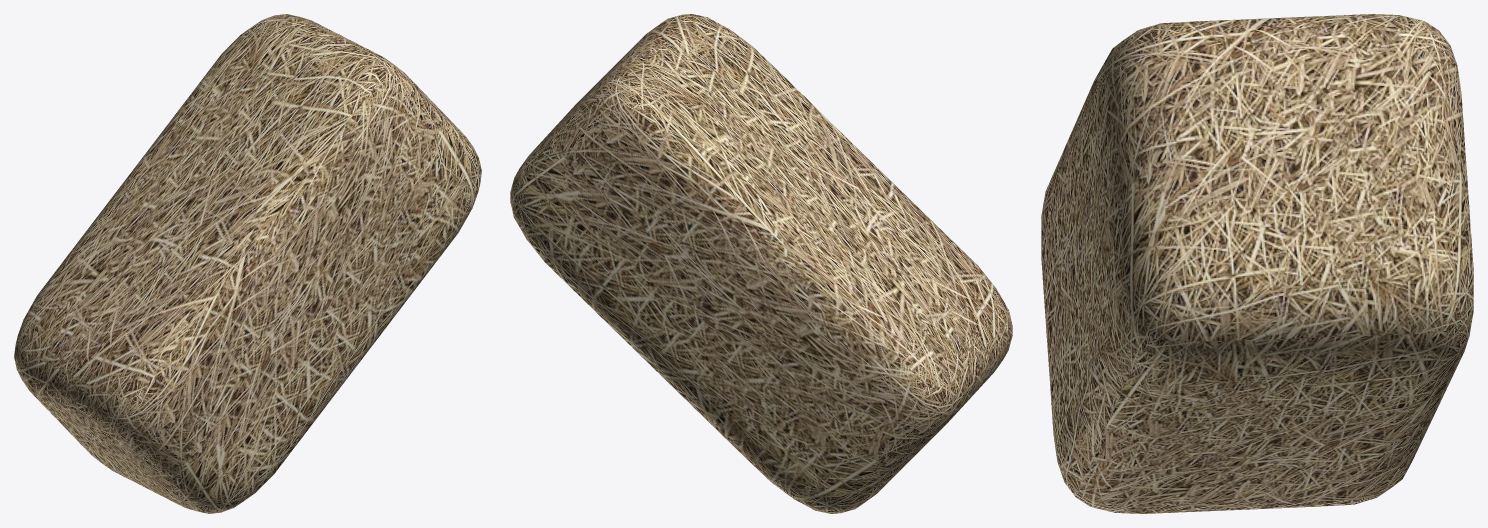
Rendered from haybale.glb.
3 renders of one model, left to right at view 1: azimuth 30°, elevation 25°; view 2: azimuth 150°, elevation 25°; view 3: azimuth 270°, elevation 25°, orthographic. The views are drawn at different scales.
Visible parts, largest first — view 1: prefab; view 2: prefab; view 3: prefab.
Boxes of the visible parts, x1=… form: prefab: x1=14, y1=14, x2=481, y2=513; prefab: x1=510, y1=14, x2=1012, y2=513; prefab: x1=1041, y1=14, x2=1473, y2=513.
Size of the model in its own units: 0.9351 by 0.8508 by 0.5391.
Materials: 1 (1 with a texture image).
